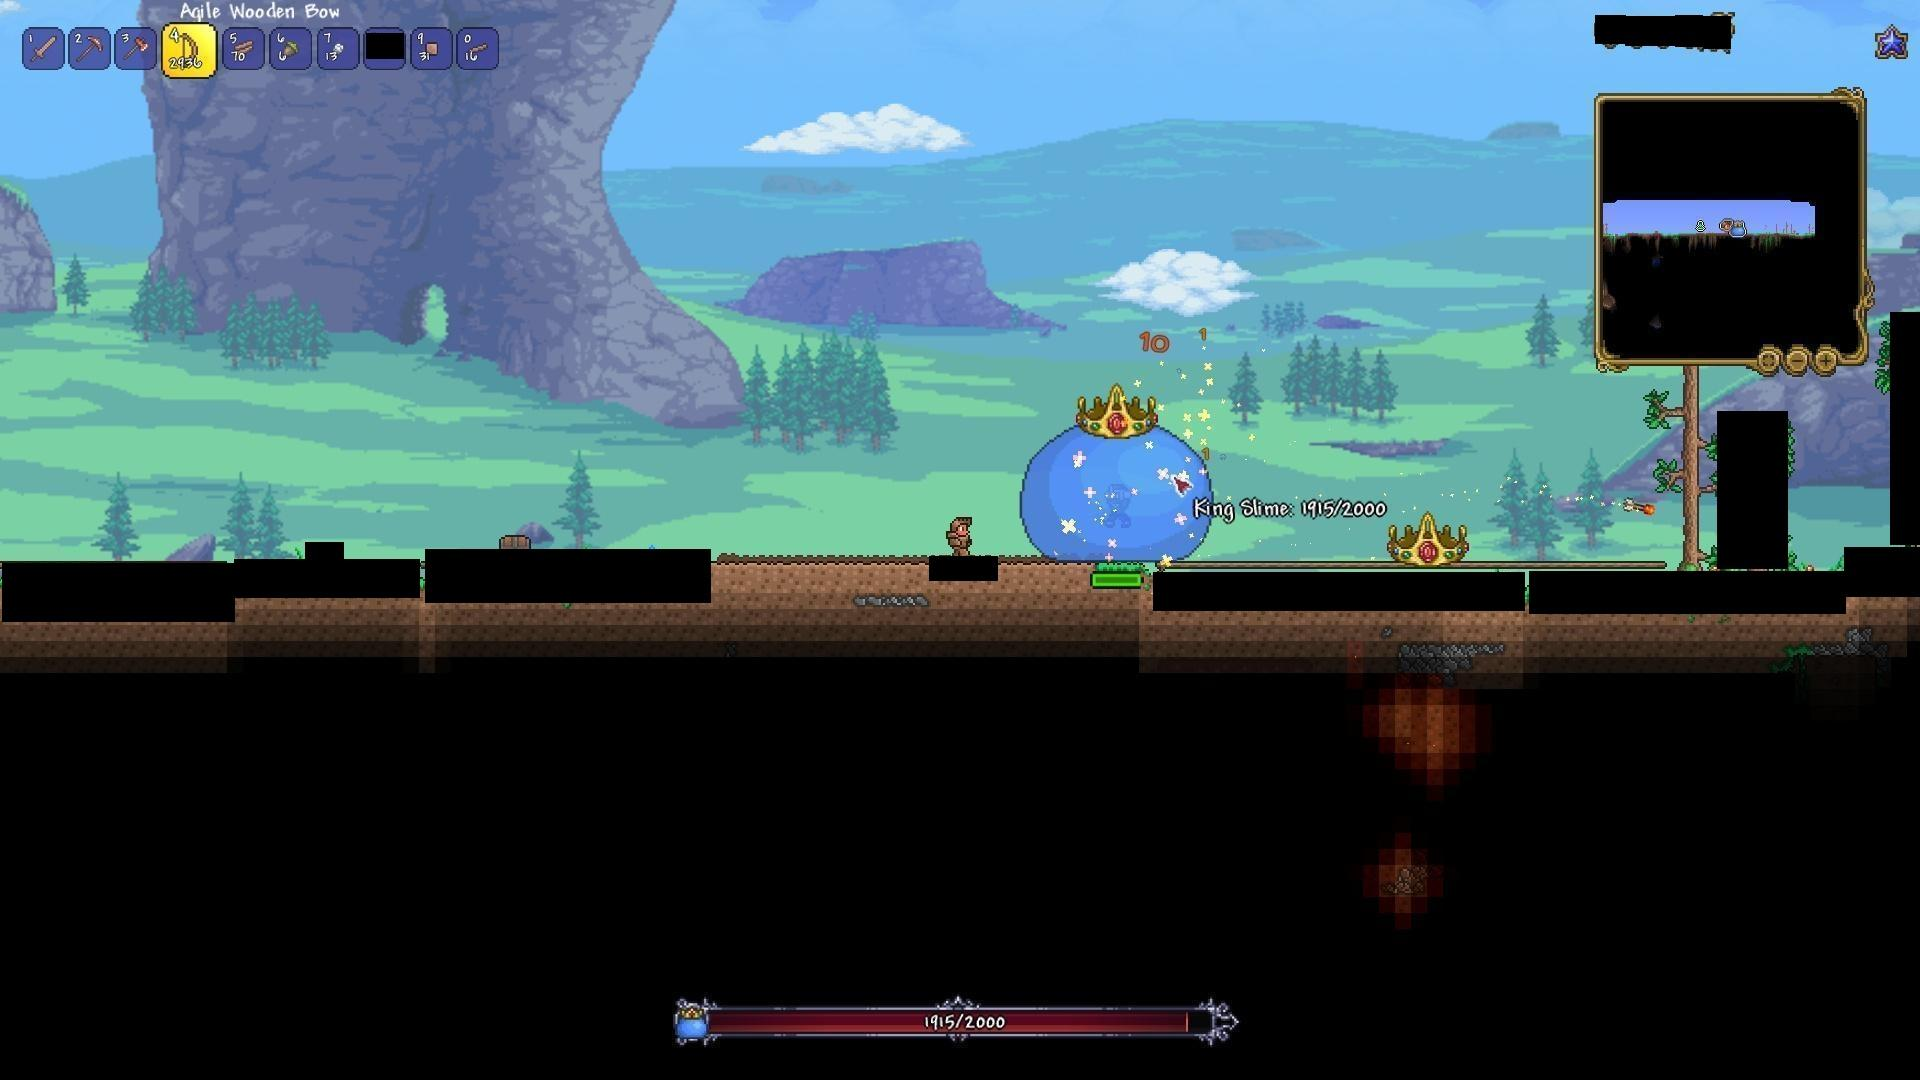tree: (1654, 359, 1709, 568)
wood: (228, 33, 260, 63)
